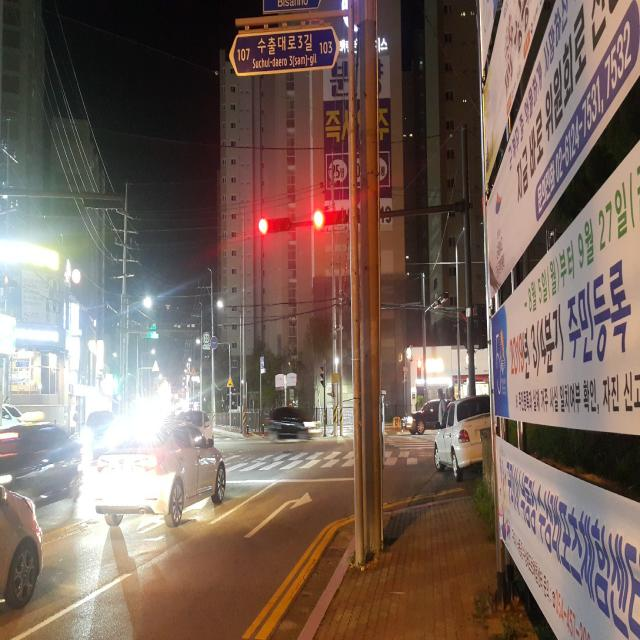횡단보도: (222, 443, 422, 473), (384, 434, 436, 449)
